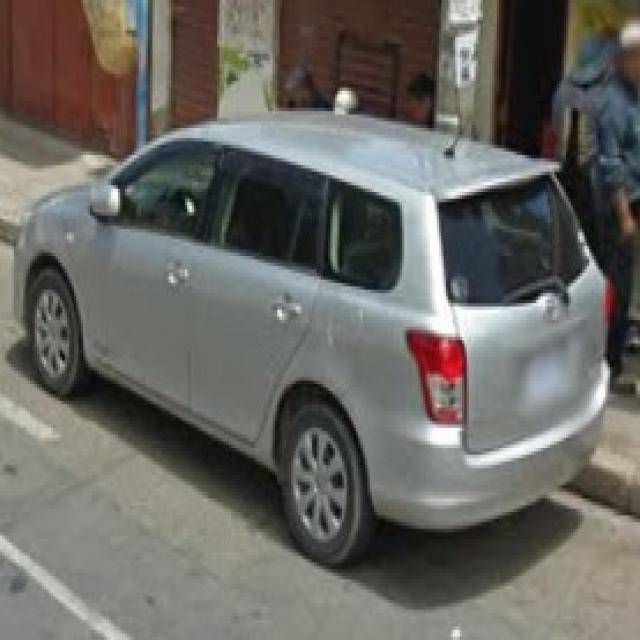cars: (13, 91, 610, 569)
